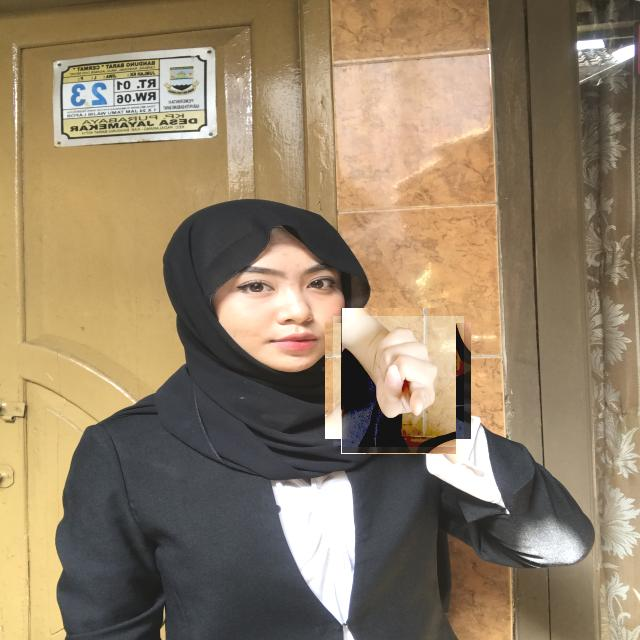kamu: (333, 316, 464, 447)
